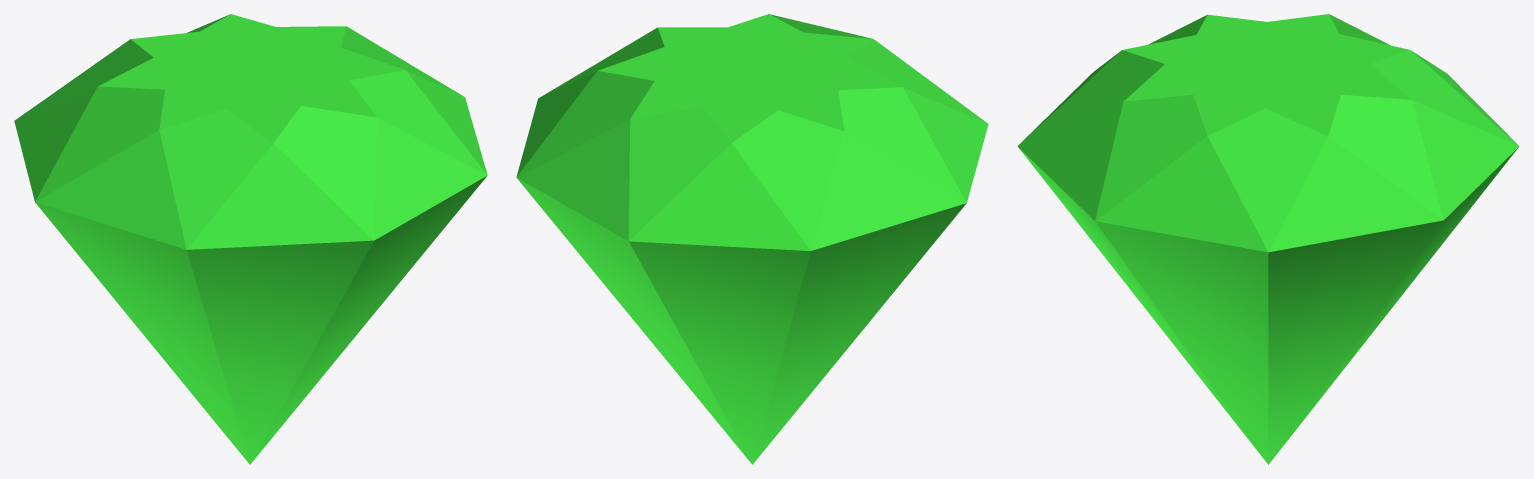
The model's file is diamant.fbx.
The picture shows the model from 3 angles, left to right: view 1: azimuth 30°, elevation 25°; view 2: azimuth 150°, elevation 25°; view 3: azimuth 270°, elevation 25°; orthographic projection.
Visible parts, largest first — view 1: crystal; view 2: crystal; view 3: crystal.
Part boxes in pixels (box(x1,y1,x2,y2)): crystal: box(14, 14, 487, 464); crystal: box(516, 14, 988, 464); crystal: box(1017, 14, 1519, 464).
Bounding box in the file's own units: 7.33 × 6.45 × 7.33.
